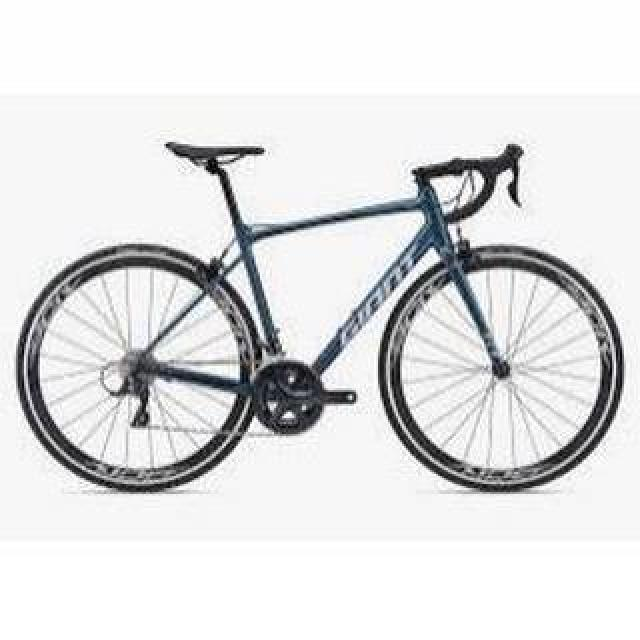Person: (12, 125, 620, 495)
